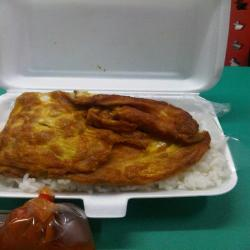omelette: (7, 89, 211, 196)
